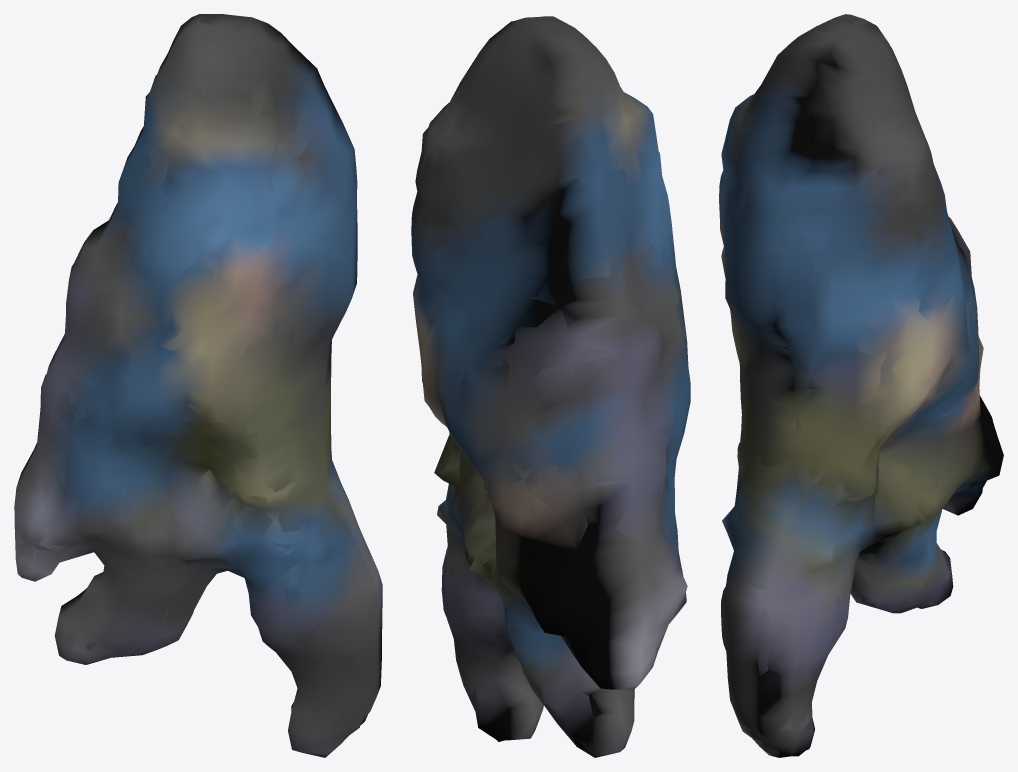
The model's file is guardian_gi.glb.
3 renders of one model, left to right at view 1: azimuth 30°, elevation 25°; view 2: azimuth 150°, elevation 25°; view 3: azimuth 270°, elevation 25°, orthographic. The views are drawn at different scales.
Parts seen in each view (by area): view 1: guardian_gi; view 2: guardian_gi; view 3: guardian_gi.
Part boxes in pixels (x1=…): guardian_gi: x1=14, y1=14, x2=382, y2=757; guardian_gi: x1=411, y1=16, x2=690, y2=757; guardian_gi: x1=719, y1=14, x2=1003, y2=757.
Size of the model in its own units: 0.9104 by 2.22 by 0.8194.
